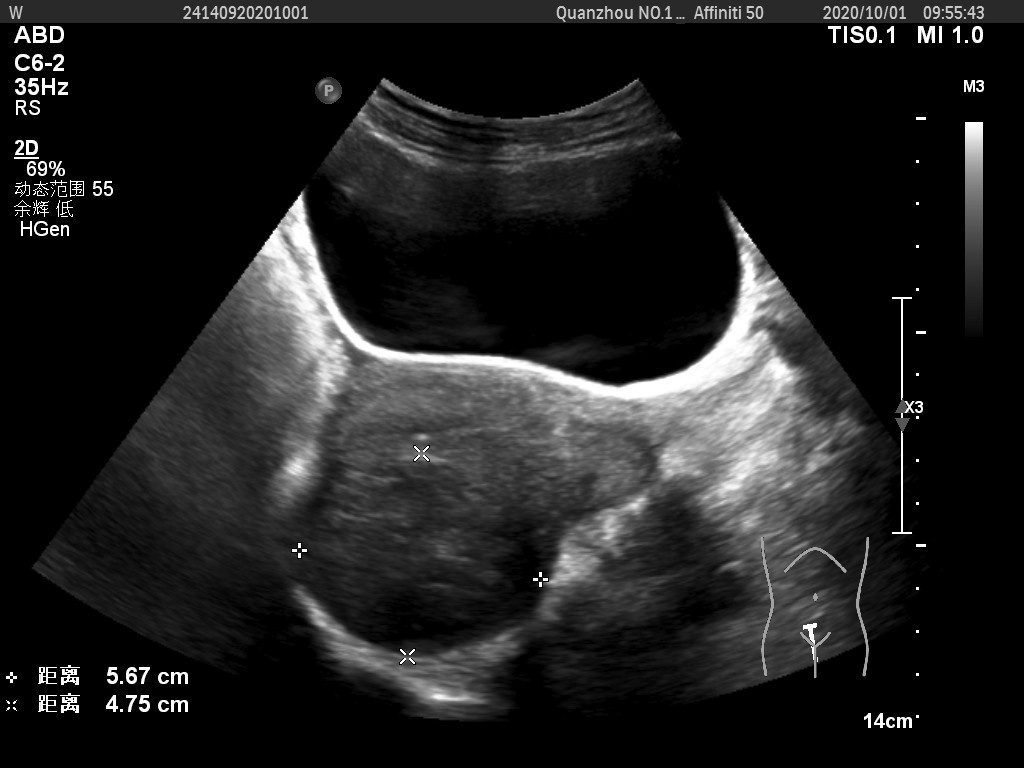肌瘤: (319, 452, 530, 622)
